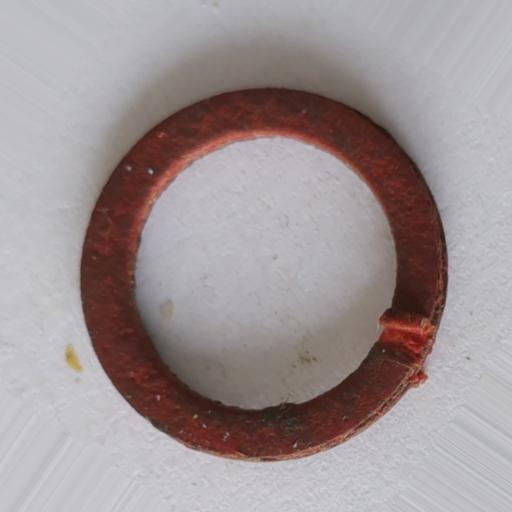defect: (379, 307, 437, 389)
